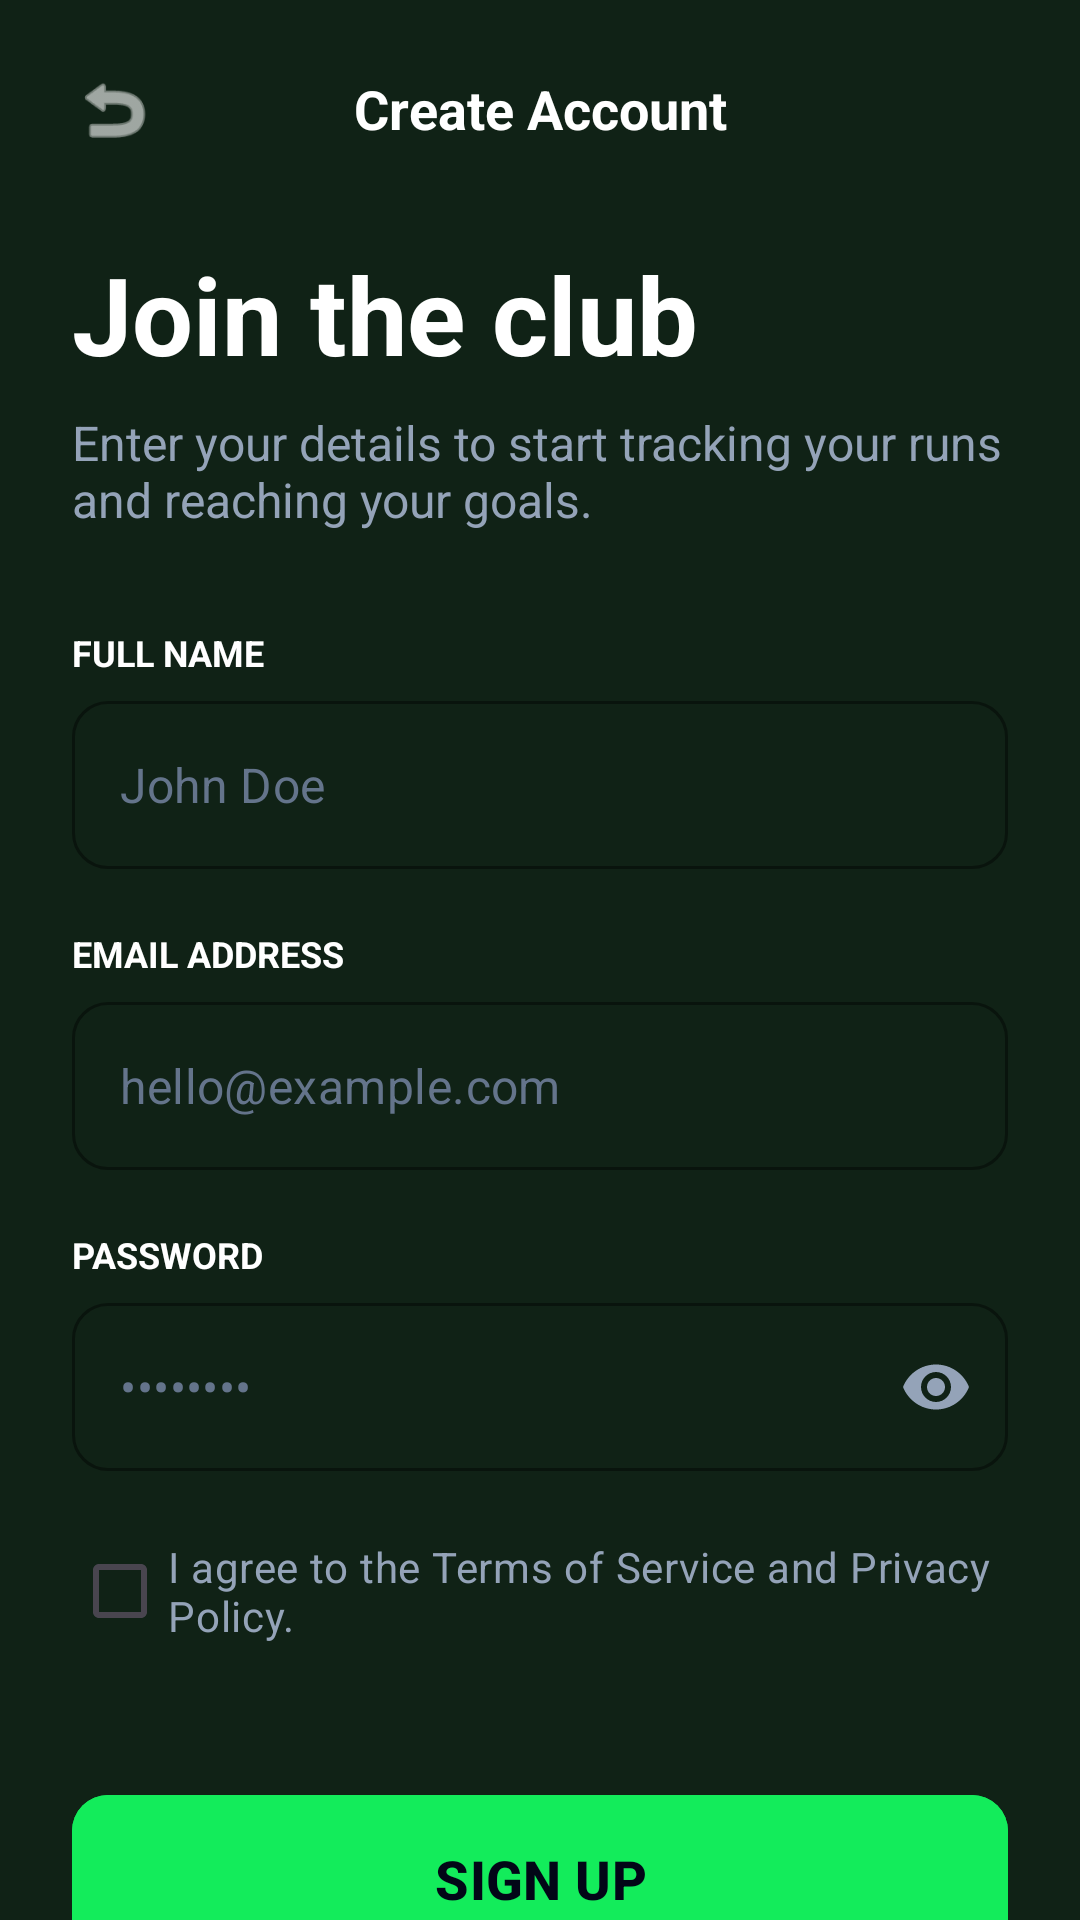

Icons on this 1080 × 1920 Android screen, each with its box as (x1, y1, x2, y2):
revert: (85, 83, 146, 138)
